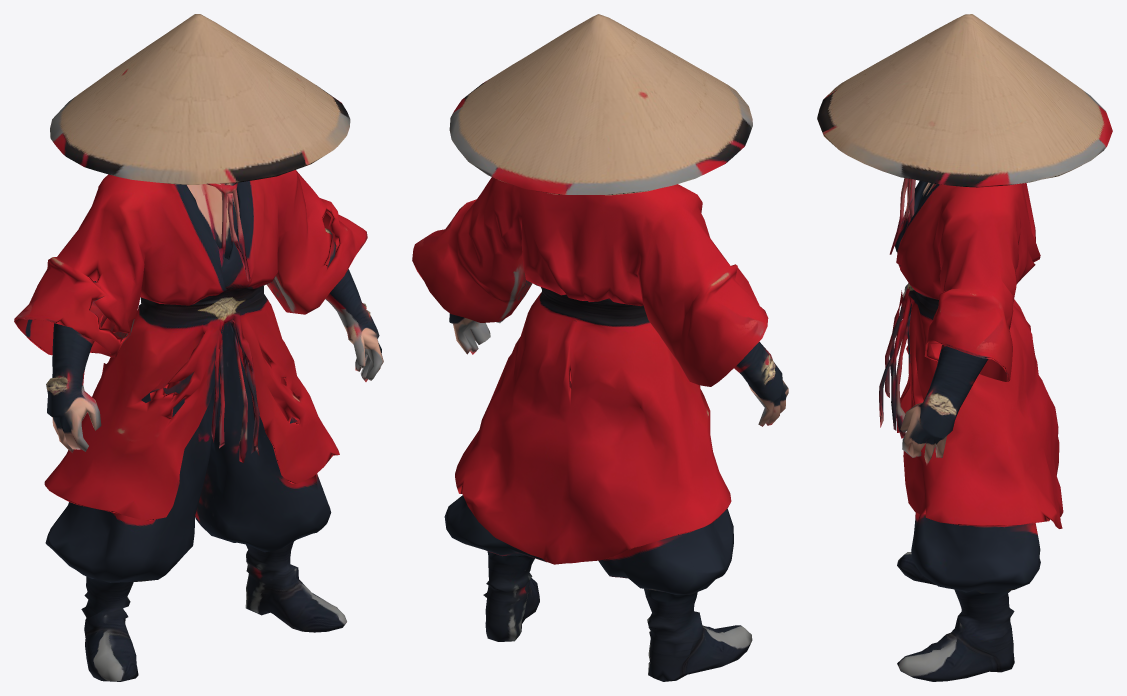
The model's file is sword_B_h25.glb.
3 views of the same model, side by side, from view 1: azimuth 30°, elevation 25°; view 2: azimuth 150°, elevation 25°; view 3: azimuth 270°, elevation 25° (orthographic). The views are drawn at different scales.
Visible parts, largest first — view 1: tripo_node_50977438-eeb9-46e6-8d10-780b386cf868; view 2: tripo_node_50977438-eeb9-46e6-8d10-780b386cf868; view 3: tripo_node_50977438-eeb9-46e6-8d10-780b386cf868.
Part boxes in pixels (<box>): tripo_node_50977438-eeb9-46e6-8d10-780b386cf868: <box>14,14,383,681</box>; tripo_node_50977438-eeb9-46e6-8d10-780b386cf868: <box>412,14,788,681</box>; tripo_node_50977438-eeb9-46e6-8d10-780b386cf868: <box>817,14,1112,681</box>.
Bounding box in the file's own units: 0.5816 × 1 × 0.4373.
Materials: 1 (1 with a texture image).
